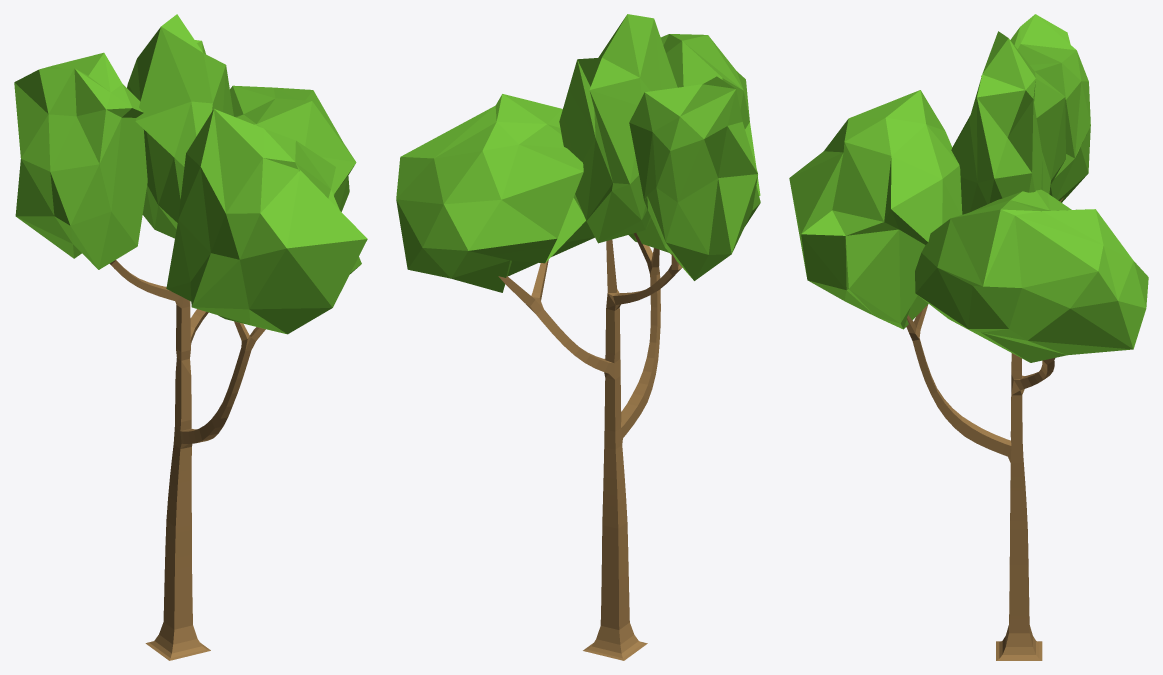
File: Tree_Leaf_Tall.gltf
3 views of the same model, side by side, from view 1: azimuth 30°, elevation 25°; view 2: azimuth 150°, elevation 25°; view 3: azimuth 270°, elevation 25° (orthographic). The views are drawn at different scales.
Visible parts, largest first — view 1: Plane; view 2: Plane; view 3: Plane.
Boxes of the visible parts, x1=… form: Plane: x1=14, y1=14, x2=367, y2=660; Plane: x1=396, y1=14, x2=760, y2=660; Plane: x1=789, y1=14, x2=1148, y2=660.
Bounding box in the file's own units: 7.83 × 14.34 × 7.66.
Materials: 1 (1 with a texture image).
